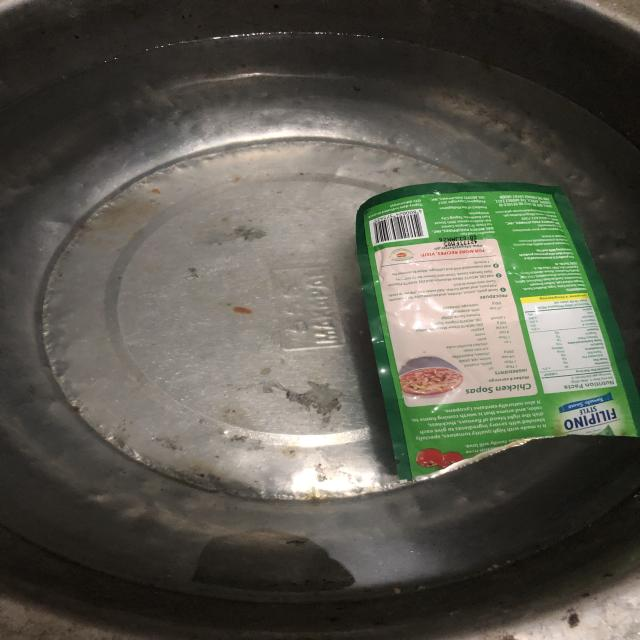Plastic Pouch: (341, 185, 633, 464)
